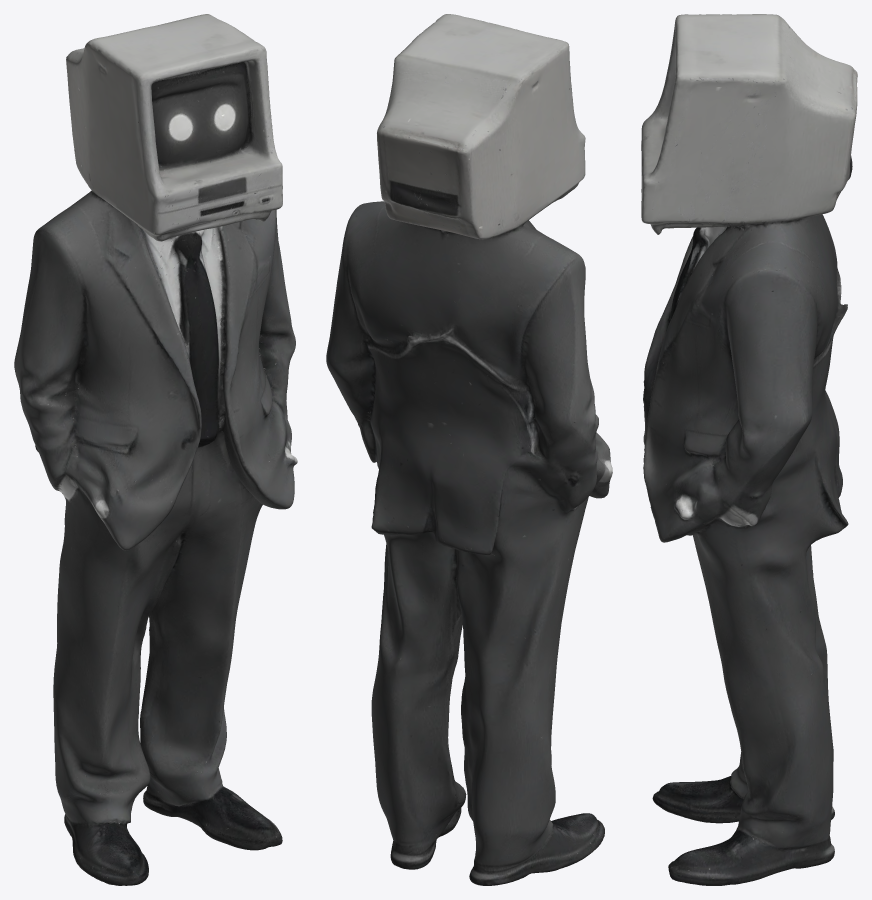
Rendered from about-man.glb.
3 renders of one model, left to right at view 1: azimuth 30°, elevation 25°; view 2: azimuth 150°, elevation 25°; view 3: azimuth 270°, elevation 25°, orthographic.
Parts seen in each view (by area): view 1: Body, Head; view 2: Body, Head; view 3: Body, Head.
Part boxes in pixels (x1,y1,x2,y2): Body: [14, 190, 297, 885]; Head: [66, 14, 282, 239]; Body: [326, 184, 612, 885]; Head: [377, 14, 585, 239]; Body: [643, 214, 848, 885]; Head: [641, 14, 857, 225].
Size of the model in its own units: 0.6841 by 2 by 0.4886.
1 material, 1 textured.
